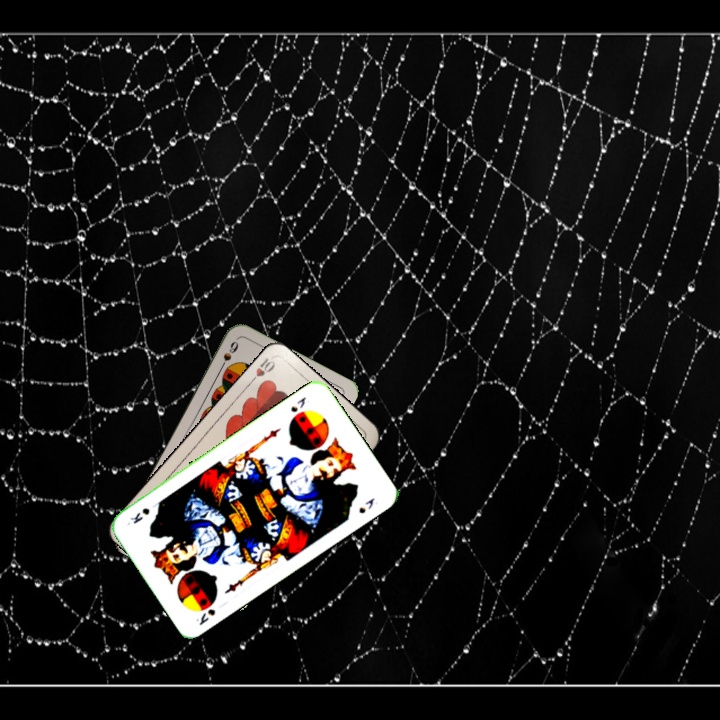H10: (245, 353, 278, 387)
S9: (215, 337, 241, 374)
SK: (192, 605, 218, 628), (286, 393, 309, 415)
